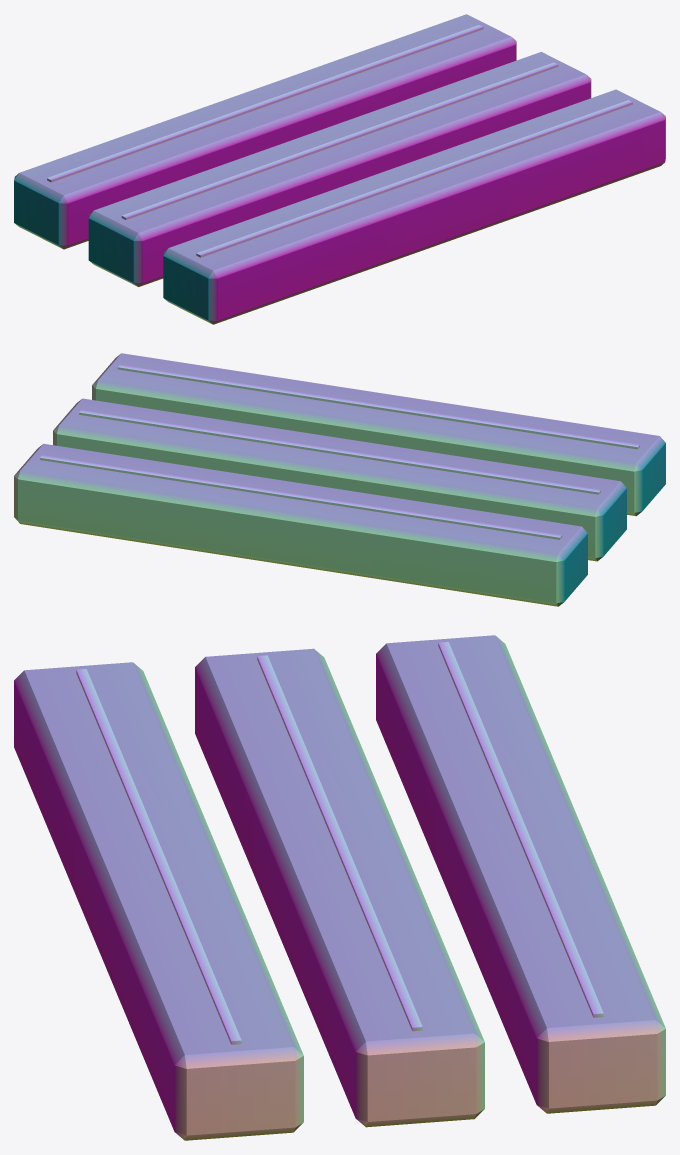
The model's file is env_deco_staples.glb.
The picture shows the model from 3 angles, top to bottom: view 1: azimuth 30°, elevation 25°; view 2: azimuth 150°, elevation 25°; view 3: azimuth 270°, elevation 25°; orthographic projection. The views are drawn at different scales.
Parts seen in each view (by area): view 1: env_deco_staples_mesh; view 2: env_deco_staples_mesh; view 3: env_deco_staples_mesh.
Part boxes in pixels (left/top/right/bottom): env_deco_staples_mesh: left=14, top=14, right=665, bottom=324; env_deco_staples_mesh: left=14, top=353, right=665, bottom=606; env_deco_staples_mesh: left=14, top=635, right=665, bottom=1140.
Size of the model in its own units: 0.3861 by 0.0375 by 0.2482.
